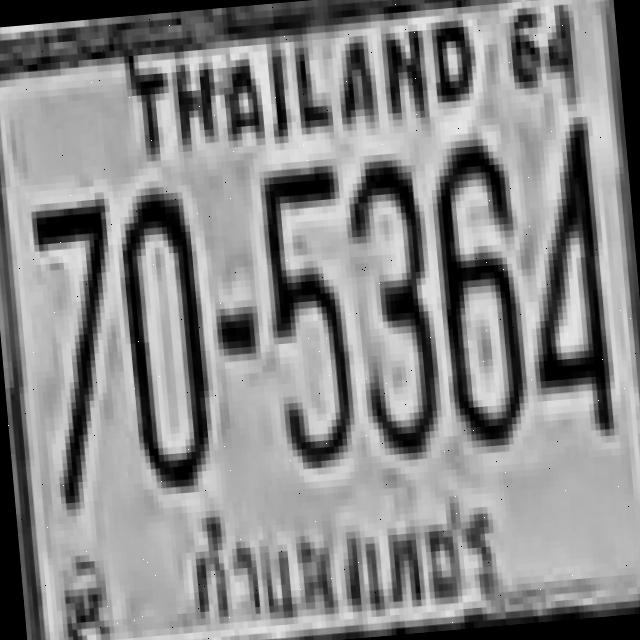0: (112, 182, 211, 486)
3: (341, 152, 440, 456)
4: (513, 116, 614, 434)
5: (256, 159, 354, 464), (254, 158, 348, 352)
6: (426, 130, 526, 442)
7: (28, 195, 127, 500), (28, 196, 120, 414), (28, 196, 118, 394)
KamphaengPhet: (173, 478, 520, 634)
